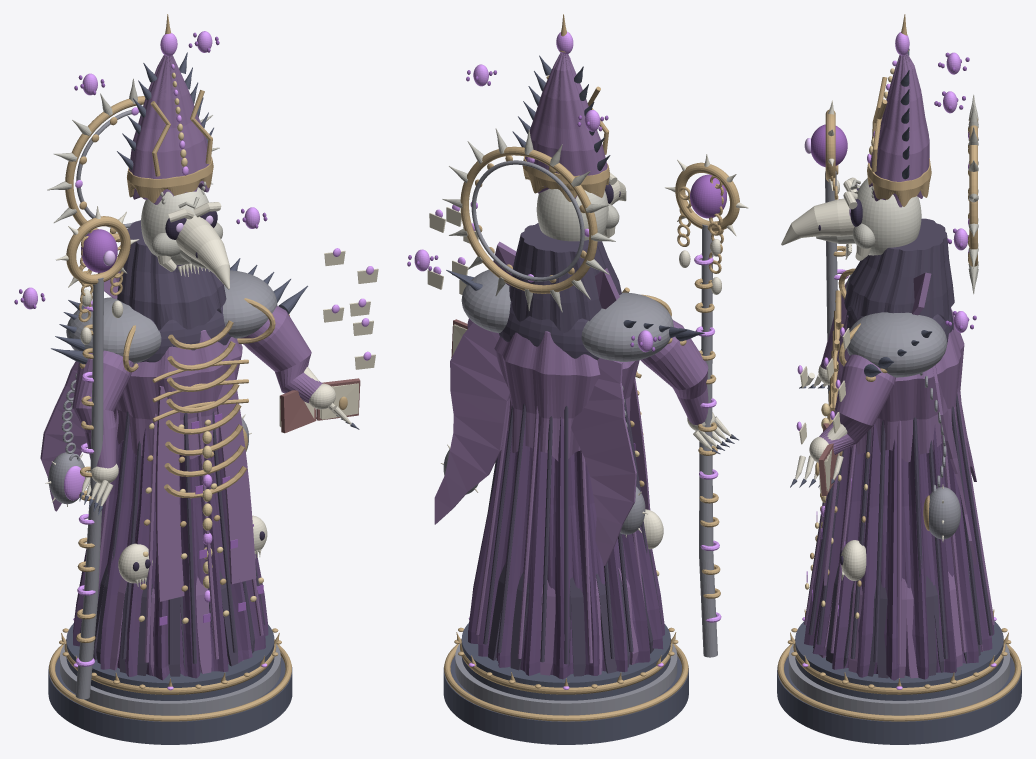
File: fou_archiveque.fbx
3 views of the same model, side by side, from view 1: azimuth 30°, elevation 25°; view 2: azimuth 150°, elevation 25°; view 3: azimuth 270°, elevation 25° (orthographic).
Visible parts, largest first — view 1: 10_robe_main_velvet_sculpt, 11_robe_mantle_sculpt, 01_pedestal_low, 26_hood_neck_ring, 55_mitre_vault_sculpt, 70_staff_shaft, 12_tabard_side_-1, 12_tabard_side_1, 03_pedestal_plinth, 02_pedestal_trim, 30_sleeve_1, 30_sleeve_-1 (+27 smaller); view 2: 10_robe_main_velvet_sculpt, 11_robe_mantle_sculpt, 25_side_mantle_1, 25_side_mantle_-1, 01_pedestal_low, 26_hood_neck_ring, 55_mitre_vault_sculpt, 21_shoulder_pauldron_-1, 03_pedestal_plinth, 70_staff_shaft, 02_pedestal_trim, 65_cursed_halo_back (+27 smaller); view 3: 10_robe_main_velvet_sculpt, 26_hood_neck_ring, 01_pedestal_low, 11_robe_mantle_sculpt, 55_mitre_vault_sculpt, 21_shoulder_pauldron_1, 03_pedestal_plinth, 02_pedestal_trim, 30_sleeve_1, 40_skull_cranium, 05_pedestal_inlay_low, 47_hooked_plague_beak (+33 smaller).
Part boxes in pixels (x1=…): 10_robe_main_velvet_sculpt: x1=73, y1=423, x2=268, y2=680; 11_robe_mantle_sculpt: x1=114, y1=330, x2=242, y2=461; 01_pedestal_low: x1=48, y1=656, x2=292, y2=744; 26_hood_neck_ring: x1=117, y1=220, x2=226, y2=330; 55_mitre_vault_sculpt: x1=129, y1=55, x2=211, y2=204; 70_staff_shaft: x1=75, y1=277, x2=103, y2=699; 12_tabard_side_-1: x1=155, y1=386, x2=184, y2=601; 12_tabard_side_1: x1=217, y1=371, x2=256, y2=584; 03_pedestal_plinth: x1=66, y1=623, x2=274, y2=700; 02_pedestal_trim: x1=60, y1=644, x2=280, y2=715; 30_sleeve_1: x1=239, y1=306, x2=322, y2=403; 30_sleeve_-1: x1=72, y1=350, x2=134, y2=468; 10_robe_main_velvet_sculpt: x1=468, y1=417, x2=664, y2=679; 11_robe_mantle_sculpt: x1=494, y1=331, x2=639, y2=461; 25_side_mantle_1: x1=434, y1=322, x2=509, y2=524; 25_side_mantle_-1: x1=571, y1=358, x2=636, y2=565; 01_pedestal_low: x1=443, y1=656, x2=688, y2=744; 26_hood_neck_ring: x1=509, y1=223, x2=621, y2=332; 55_mitre_vault_sculpt: x1=525, y1=53, x2=607, y2=198; 21_shoulder_pauldron_-1: x1=581, y1=292, x2=673, y2=361; 03_pedestal_plinth: x1=461, y1=623, x2=670, y2=700; 70_staff_shaft: x1=699, y1=224, x2=717, y2=657; 02_pedestal_trim: x1=455, y1=644, x2=677, y2=715; 65_cursed_halo_back: x1=460, y1=146, x2=597, y2=293; 10_robe_main_velvet_sculpt: x1=804, y1=418, x2=994, y2=680; 26_hood_neck_ring: x1=844, y1=218, x2=954, y2=321; 01_pedestal_low: x1=777, y1=656, x2=1021, y2=744; 11_robe_mantle_sculpt: x1=837, y1=308, x2=964, y2=462; 55_mitre_vault_sculpt: x1=869, y1=53, x2=929, y2=207; 21_shoulder_pauldron_1: x1=846, y1=312, x2=947, y2=377; 03_pedestal_plinth: x1=795, y1=621, x2=1003, y2=700; 02_pedestal_trim: x1=788, y1=644, x2=1010, y2=715; 30_sleeve_1: x1=819, y1=354, x2=895, y2=454; 40_skull_cranium: x1=856, y1=178, x2=921, y2=255; 05_pedestal_inlay_low: x1=777, y1=644, x2=1021, y2=721; 47_hooked_plague_beak: x1=781, y1=198, x2=854, y2=245.
Bounding box in the file's own units: 102 × 207 × 67.6.
